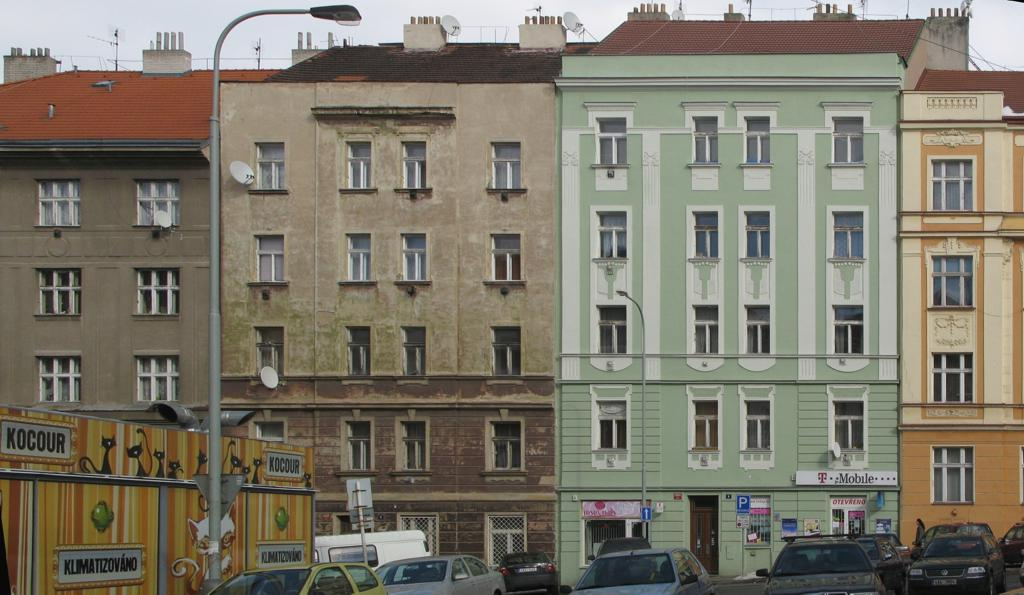window: (934, 448, 975, 503), (581, 519, 627, 567), (36, 269, 82, 316), (35, 356, 81, 403), (933, 160, 974, 212), (933, 255, 974, 307), (934, 352, 975, 404), (36, 180, 82, 226), (134, 269, 180, 315), (136, 355, 179, 401), (136, 181, 179, 226), (488, 516, 524, 566), (401, 516, 436, 563), (253, 327, 284, 376), (490, 326, 521, 375), (596, 211, 627, 259), (491, 422, 521, 471), (255, 143, 286, 190), (490, 235, 521, 282), (490, 143, 521, 190), (833, 212, 864, 259), (833, 117, 864, 164), (598, 401, 627, 450), (835, 305, 864, 354), (835, 401, 864, 450), (255, 235, 285, 282), (596, 118, 626, 165), (597, 306, 626, 354), (744, 305, 770, 355), (692, 401, 718, 451), (692, 305, 718, 354), (745, 401, 771, 450), (692, 117, 719, 163), (693, 212, 719, 258), (744, 212, 770, 258), (744, 117, 770, 163), (346, 233, 370, 282), (403, 234, 427, 282), (346, 142, 371, 188), (403, 327, 426, 376), (402, 422, 425, 471), (346, 422, 369, 471), (403, 141, 426, 189), (347, 327, 370, 375)
